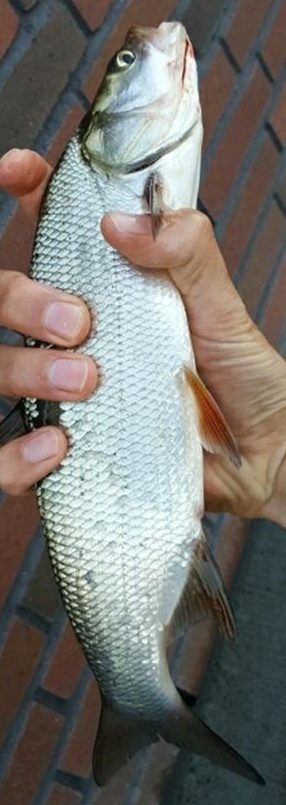Aspius aspius: (20, 20, 266, 785)
